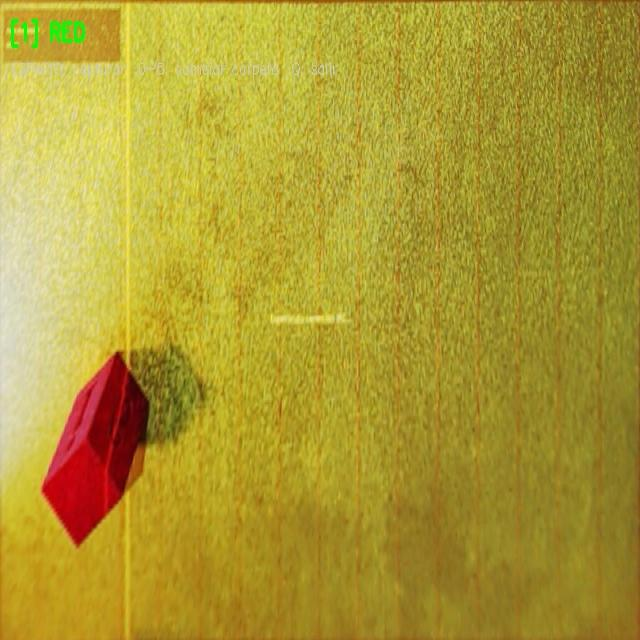red: (42, 353, 148, 545)
